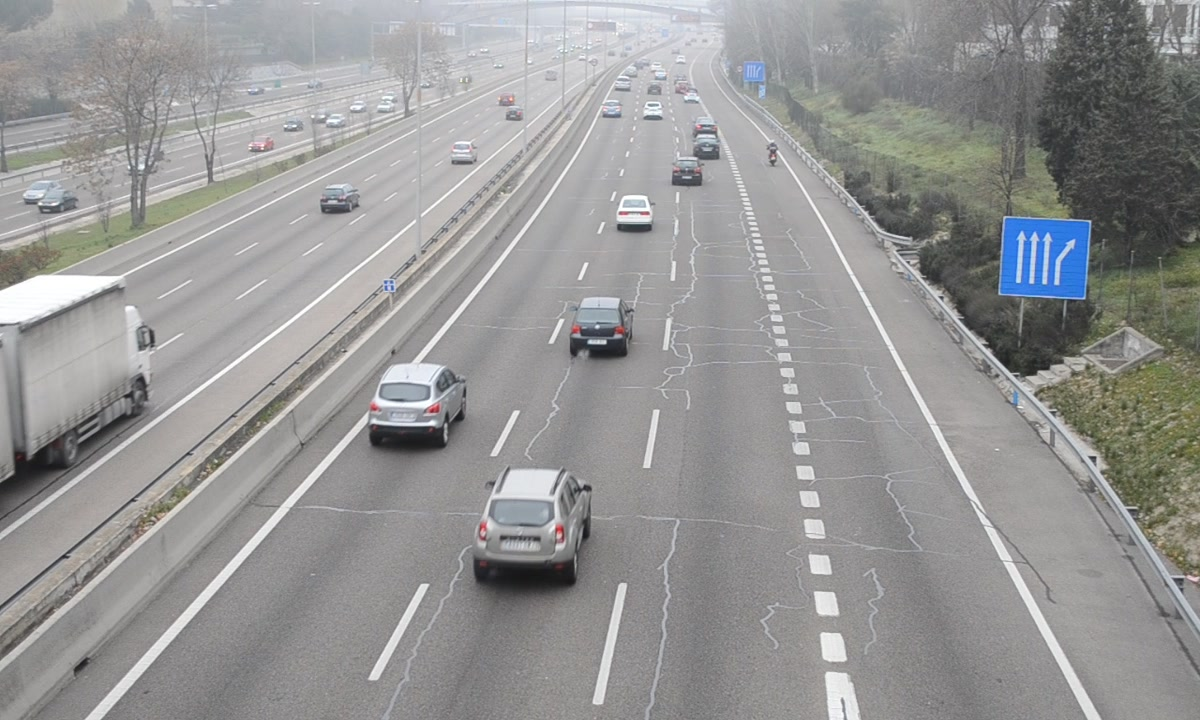car: (473, 470, 593, 567), (369, 364, 468, 431), (572, 297, 633, 351), (616, 194, 653, 227), (671, 156, 703, 186), (694, 134, 723, 158), (695, 116, 721, 137)
motorcycle: (767, 141, 780, 168)
